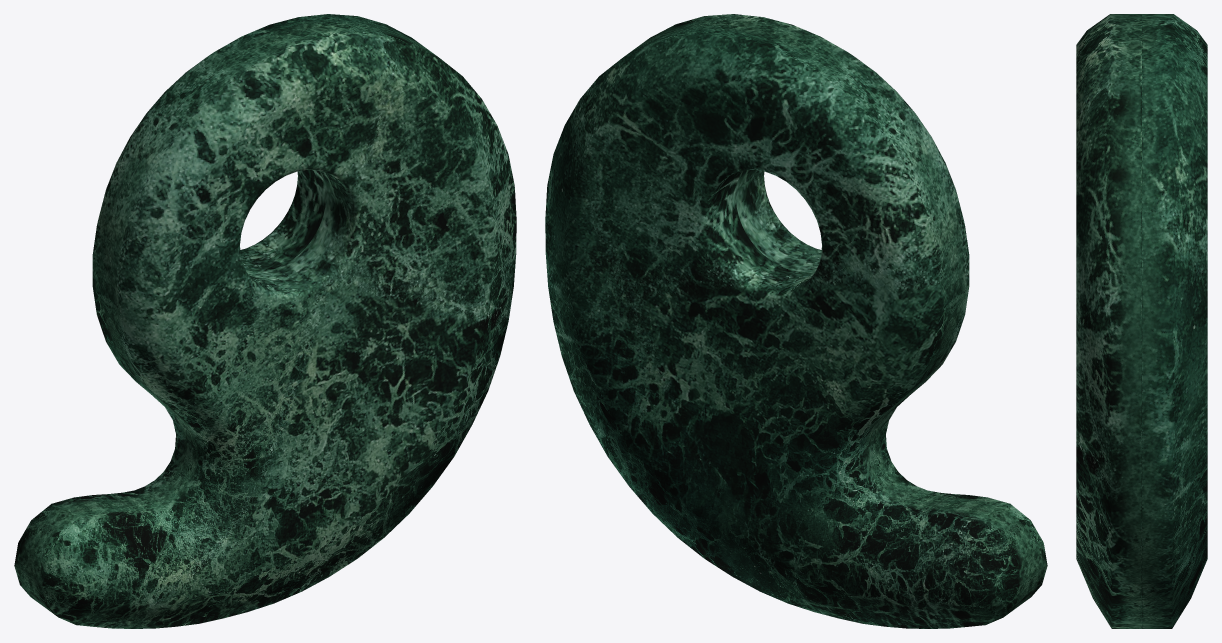
File: gem.glb
3 views of the same model, side by side, from view 1: azimuth 30°, elevation 25°; view 2: azimuth 150°, elevation 25°; view 3: azimuth 270°, elevation 25° (orthographic). The views are drawn at different scales.
Visible parts, largest first — view 1: gokok; view 2: gokok; view 3: gokok.
Part boxes in pixels (x1,y1,x2,y2): gokok: (14,14,516,628); gokok: (545,14,1047,628); gokok: (1076,14,1207,628).
Bounding box in the file's own units: 0.0808 × 0.0906 × 0.018.
1 material, 1 textured.
